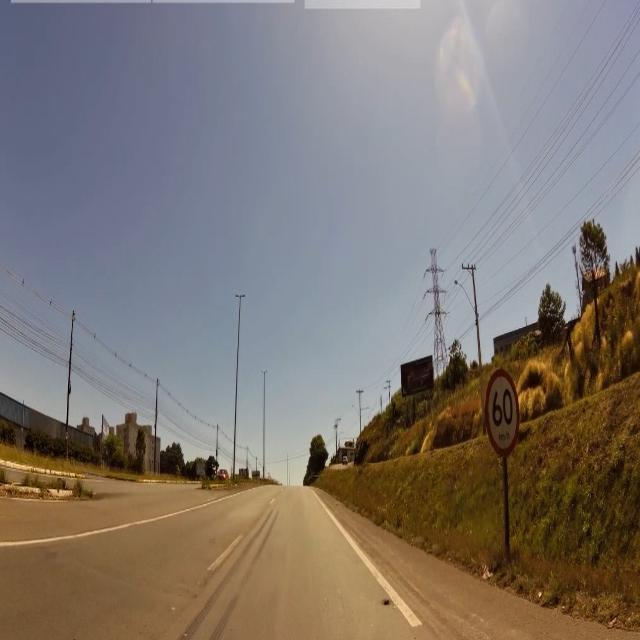R-19: (485, 369, 520, 457)
